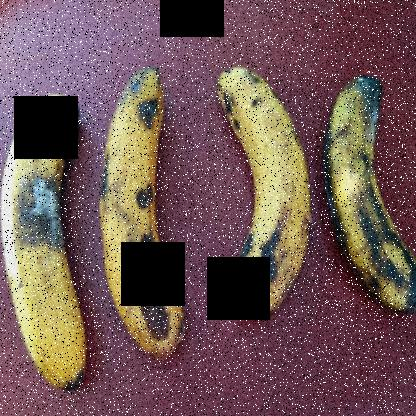overripe: (82, 36, 201, 361), (215, 59, 316, 327)
rotten: (1, 64, 87, 396), (315, 62, 415, 336)
